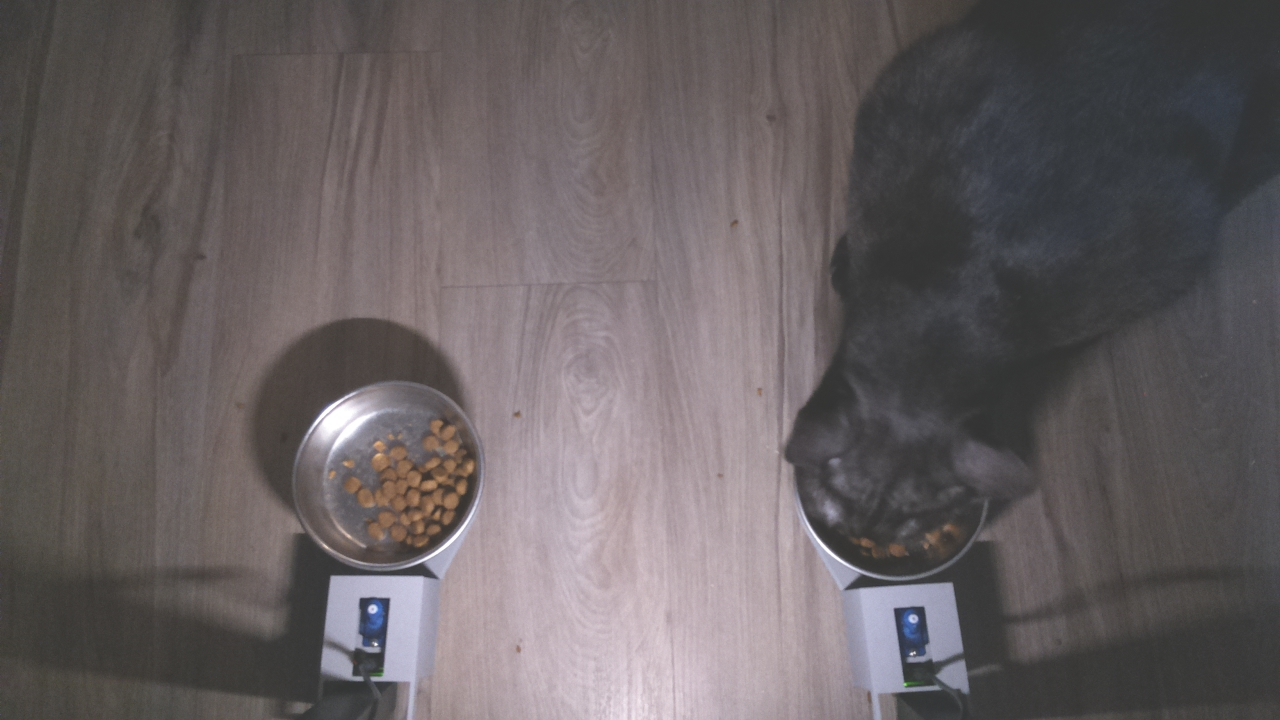open_bowl: (287, 377, 489, 575)
saki_eating: (780, 316, 1048, 596)
